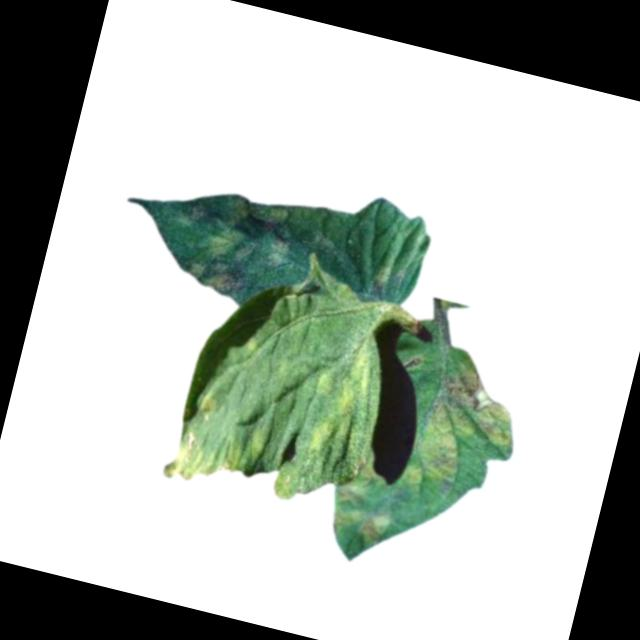Leaf_Mold: (401, 356, 526, 505), (165, 181, 296, 311), (299, 334, 375, 460), (160, 423, 245, 498), (321, 481, 399, 551), (195, 392, 226, 425)
